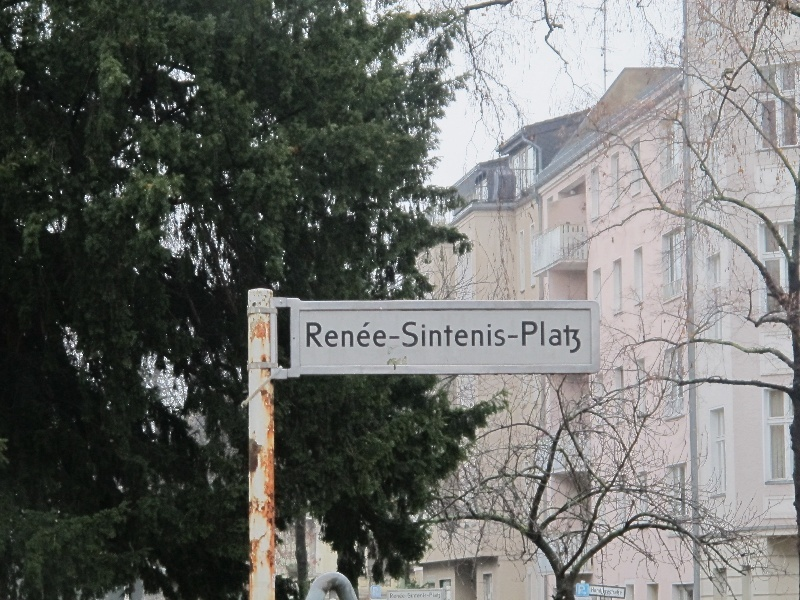text: (321, 321, 336, 354), (337, 321, 352, 354), (353, 321, 368, 354), (369, 321, 384, 354), (385, 321, 400, 354), (401, 321, 416, 354), (417, 321, 432, 354), (433, 321, 448, 354), (449, 321, 464, 354), (465, 321, 480, 354), (481, 321, 496, 354), (497, 321, 512, 354), (513, 321, 528, 354), (529, 321, 544, 354), (545, 321, 560, 354), (561, 321, 576, 354), (307, 321, 320, 354), (593, 588, 608, 597), (577, 321, 581, 354), (579, 586, 592, 595), (609, 588, 622, 597), (374, 587, 384, 597), (401, 593, 416, 599), (417, 593, 432, 599), (390, 593, 400, 599), (433, 593, 440, 599)
